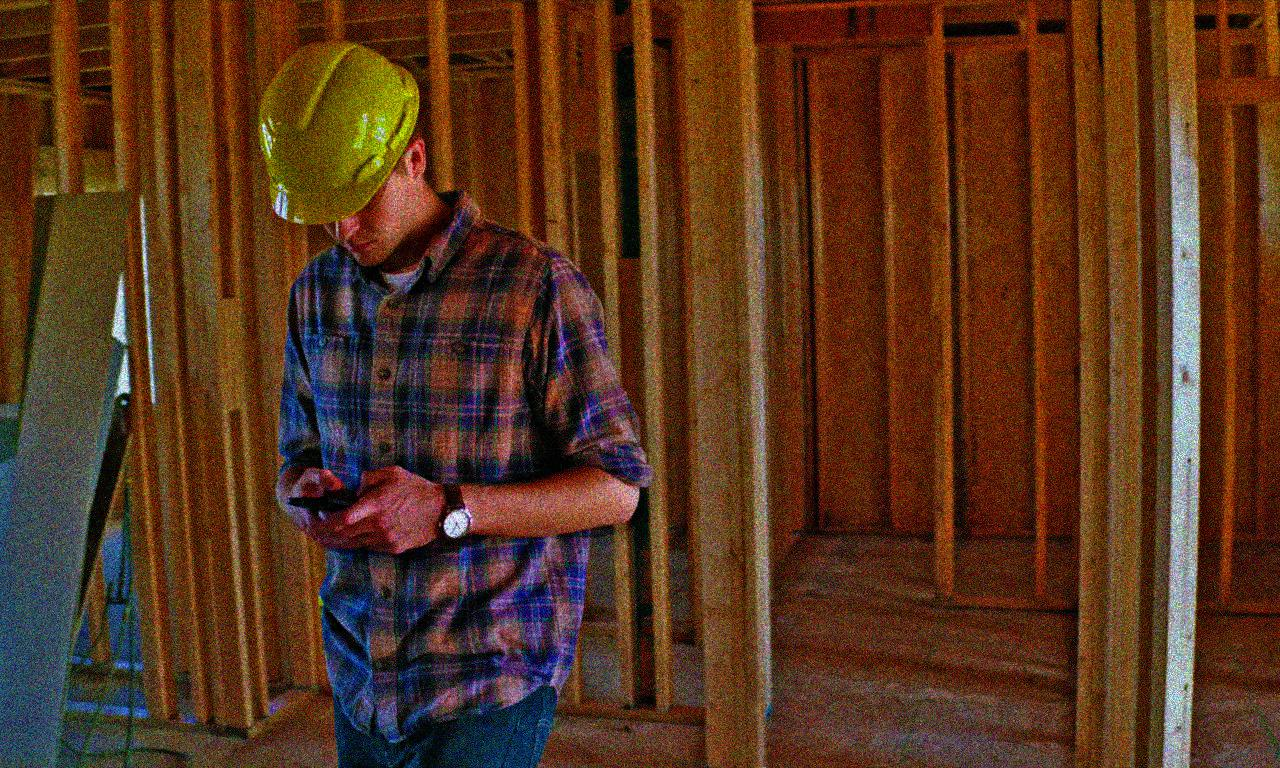helmet: (256, 38, 424, 268)
